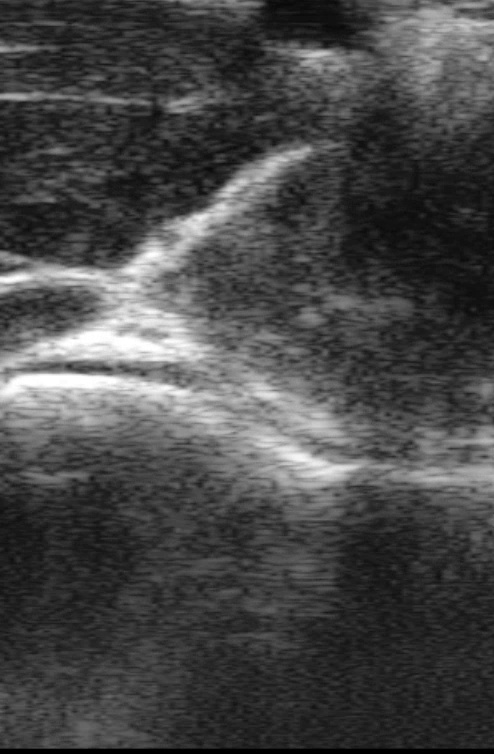veins_detect: (246, 2, 386, 58)
veins_seg: (257, 1, 376, 49)
